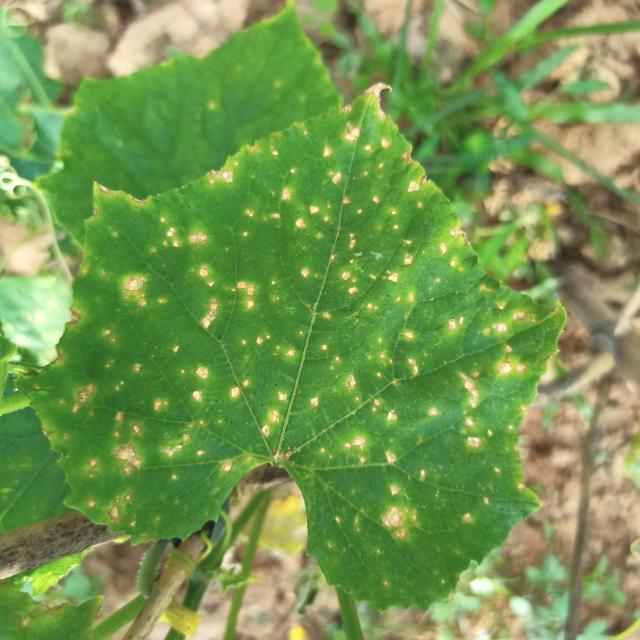disease_cucumber: (116, 104, 482, 334), (287, 270, 538, 566), (34, 271, 288, 531)
